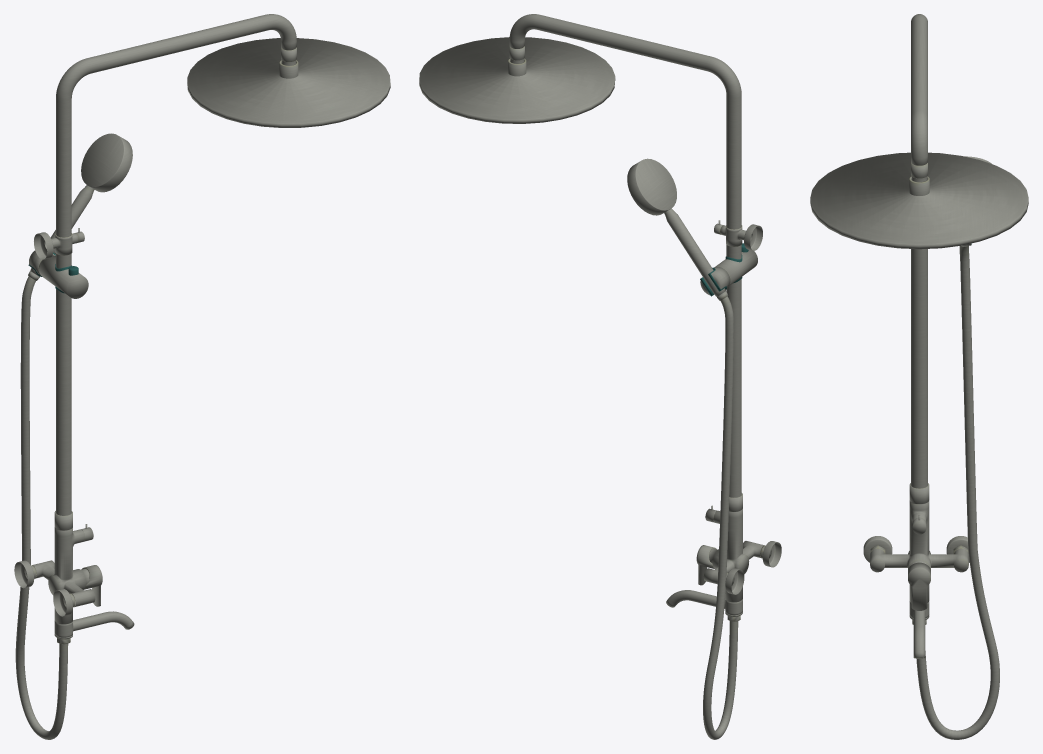
The model's file is bath8.glb.
The picture shows the model from 3 angles, left to right: view 1: azimuth 30°, elevation 25°; view 2: azimuth 150°, elevation 25°; view 3: azimuth 270°, elevation 25°; orthographic projection. The views are drawn at different scales.
Parts seen in each view (by area): view 1: Shower; view 2: Shower; view 3: Shower.
Part boxes in pixels (x1,y1,x2,y2): Shower: (14,14,390,739); Shower: (419,14,781,739); Shower: (810,14,1028,739).
Size of the model in its own units: 0.6849 by 1.33 by 0.3591.
Materials: 1 (1 with a texture image).
